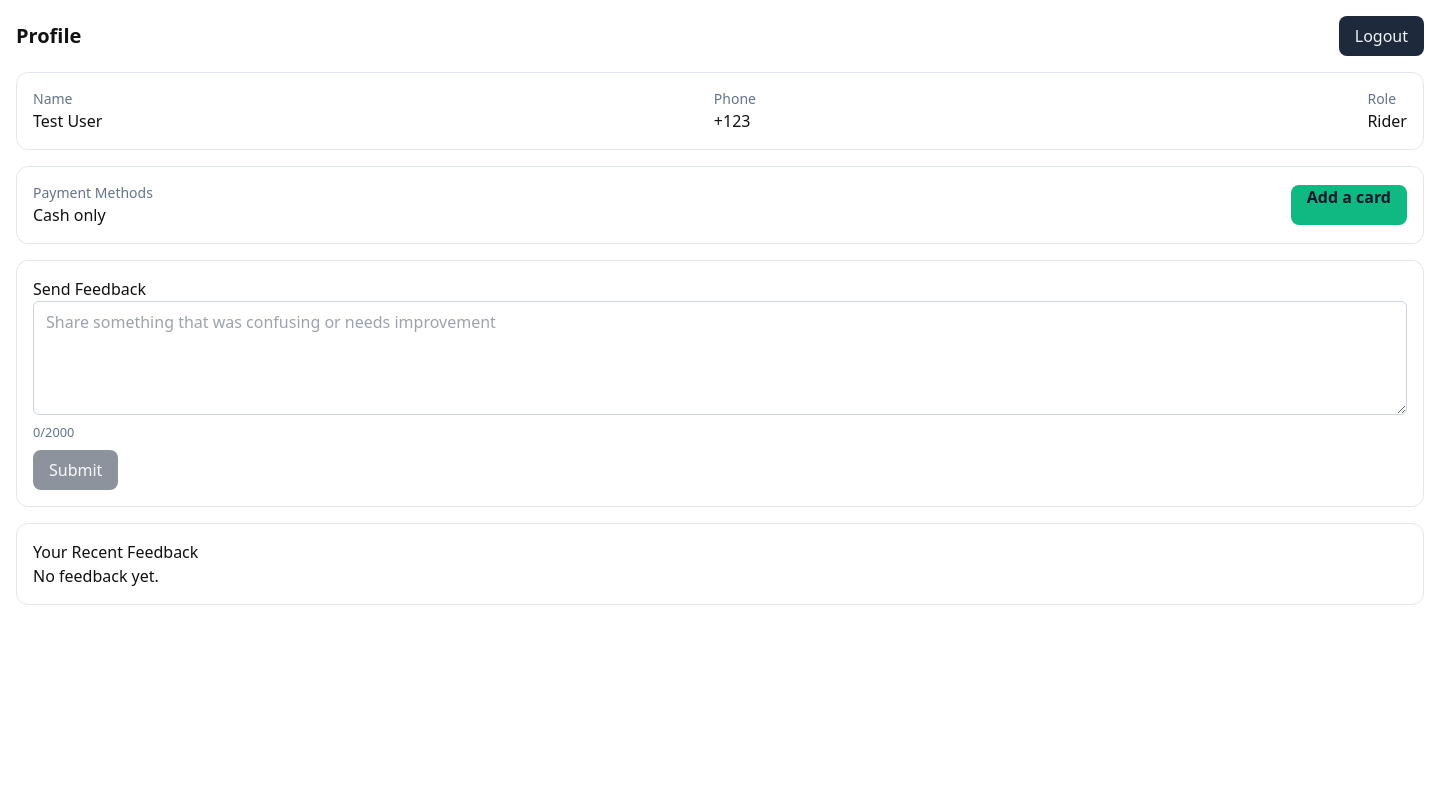
Test: Profile feedback flow › renders profile and submits feedback
This screenshot has width=1440, height=810.
Expected: the heading "Profile" is shown, [16,22,81,50]
Type "Great UX so far" into the text box with placeholder "Share something that was confusing or needs improvement" at coordinates (720, 358), box [33,301,1407,415]
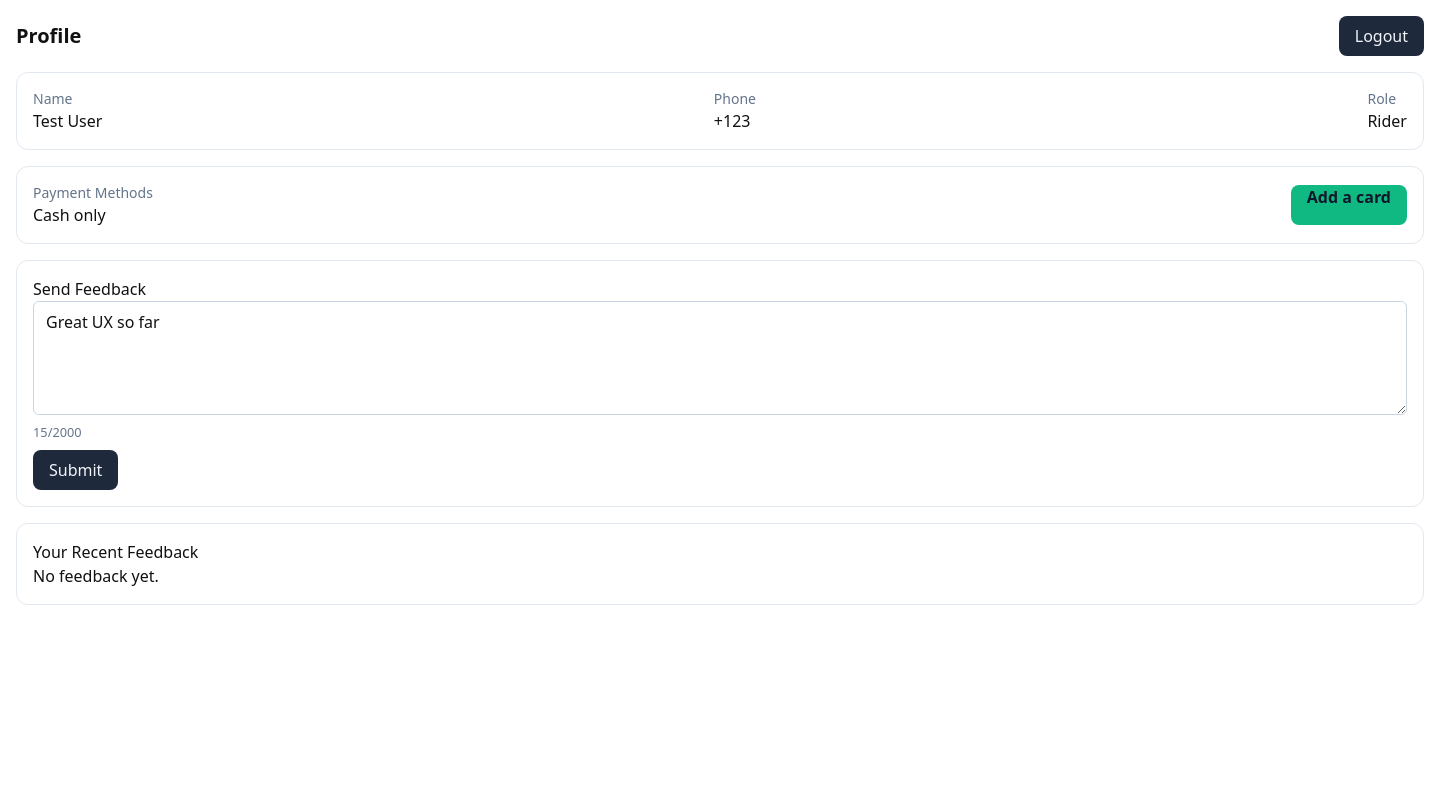
Click the button "Submit" at coordinates (76, 470), box [33,450,118,490]
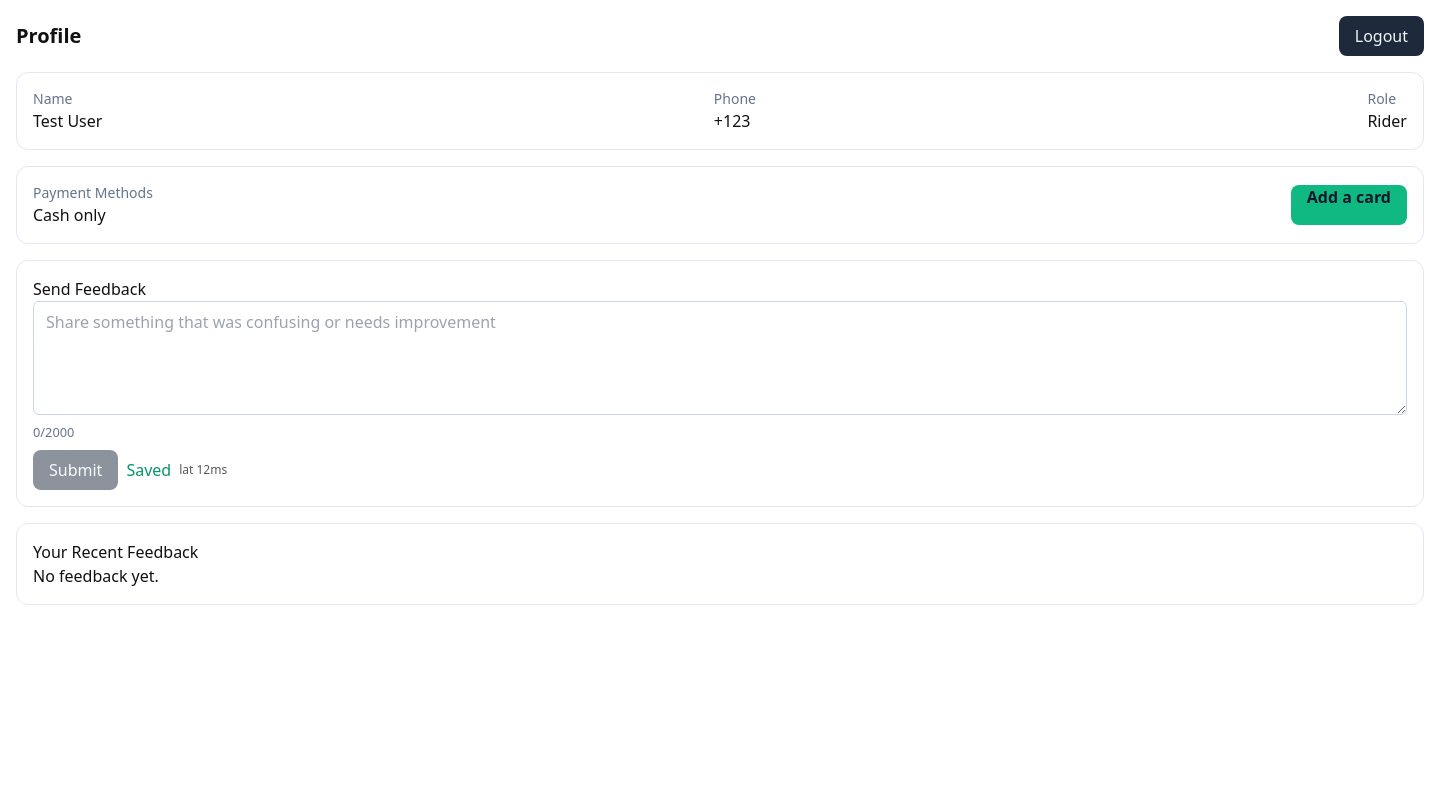
Now the text "Saved" is shown, box [126,458,171,482]
